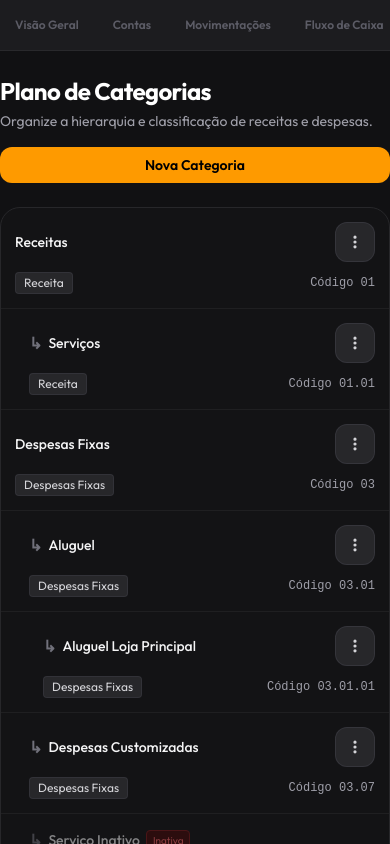
CategoriasPage — UI Suite › Bloco D — Responsividade Mobile e Ações Compactas › 17. itens do menu dropdown acionam os modais de Renomear, Mover e Aposentar e fecham o menu
Note: Testar Aposentar pelo menu mobile
What coordinates should you click on to do the following:
click the button named "Ações de Despesas Customizadas"
I would click on:
 (355, 747)
Its box is [335,727,375,767].
(page scrolled)
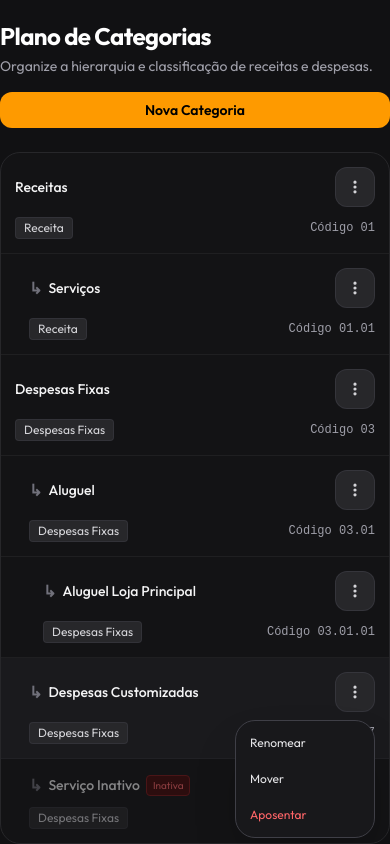
What coordinates should you click on to do the following:
click the menu item "Aposentar"
I would click on:
 (305, 815)
Its box is [236,797,374,833].
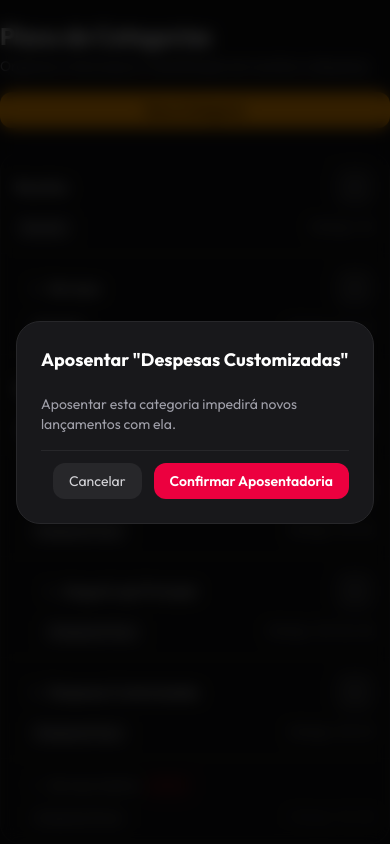
Check: the heading "Aposentar \"Despesas Customizadas\"" is shown, box [41,346,349,374]
Check: the menu is gone
Note: Fechar modal de aposentadoria
What coordinates should you click on to do the following:
click the button "Cancelar"
I would click on:
 (97, 480)
Its box is [53,462,142,498].
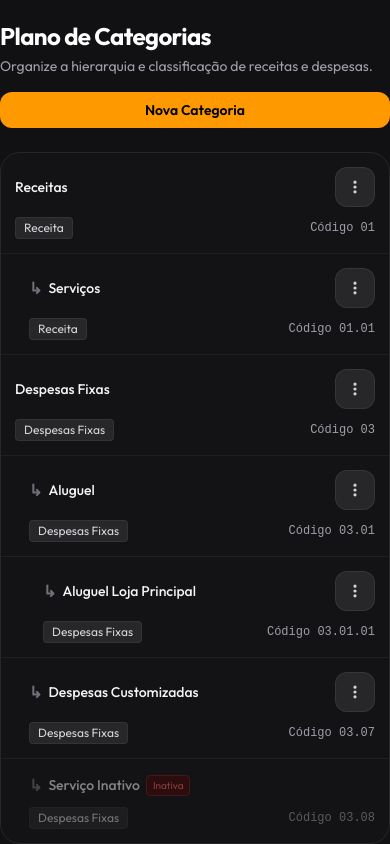
Note: Testar Renomear pelo menu mobile
What coordinates should you click on to do the following:
click the button named "Ações de Despesas Customizadas"
I would click on:
 (355, 692)
Its box is [335,672,375,712].
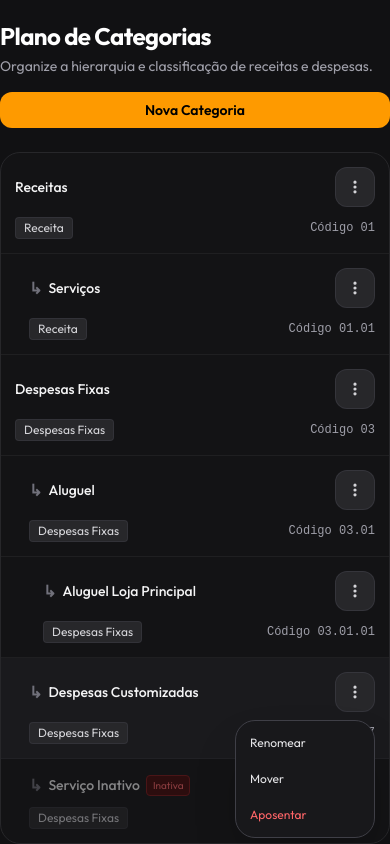
What coordinates should you click on to do the following:
click the menu item "Renomear"
I would click on:
 (305, 743)
Its box is [236,725,374,761].
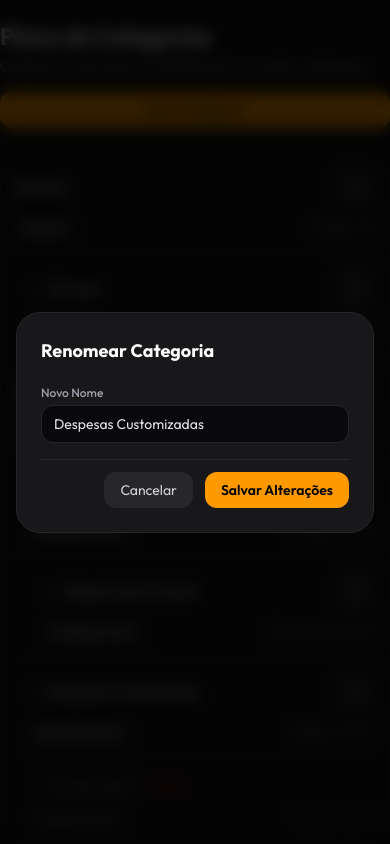
Check: the heading "Renomear Categoria" is shown, box [41,338,214,362]
Check: the menu is gone
